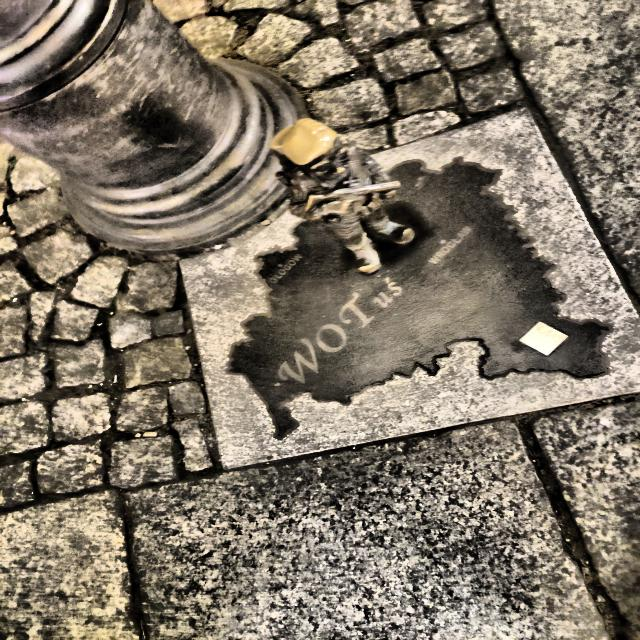WOTus: (270, 119, 415, 274)
